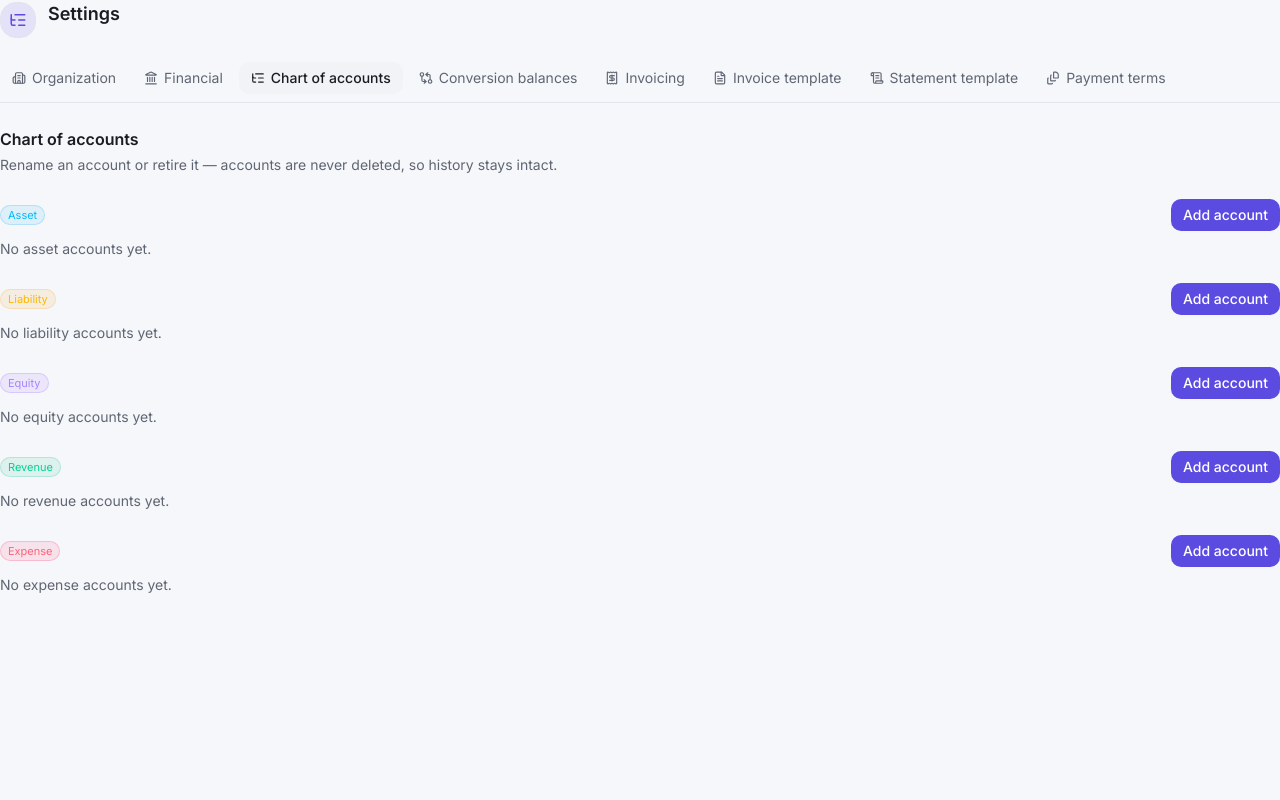
Test: ChartSettingsPage › surfaces a duplicate account code from the reused NewAccountForm
Order matches ACCOUNT_TYPES: Asset, Liability, Equity, Revenue, Expense.
Click the 5th button "Add account" at (1226, 551), box [1171, 535, 1279, 567]
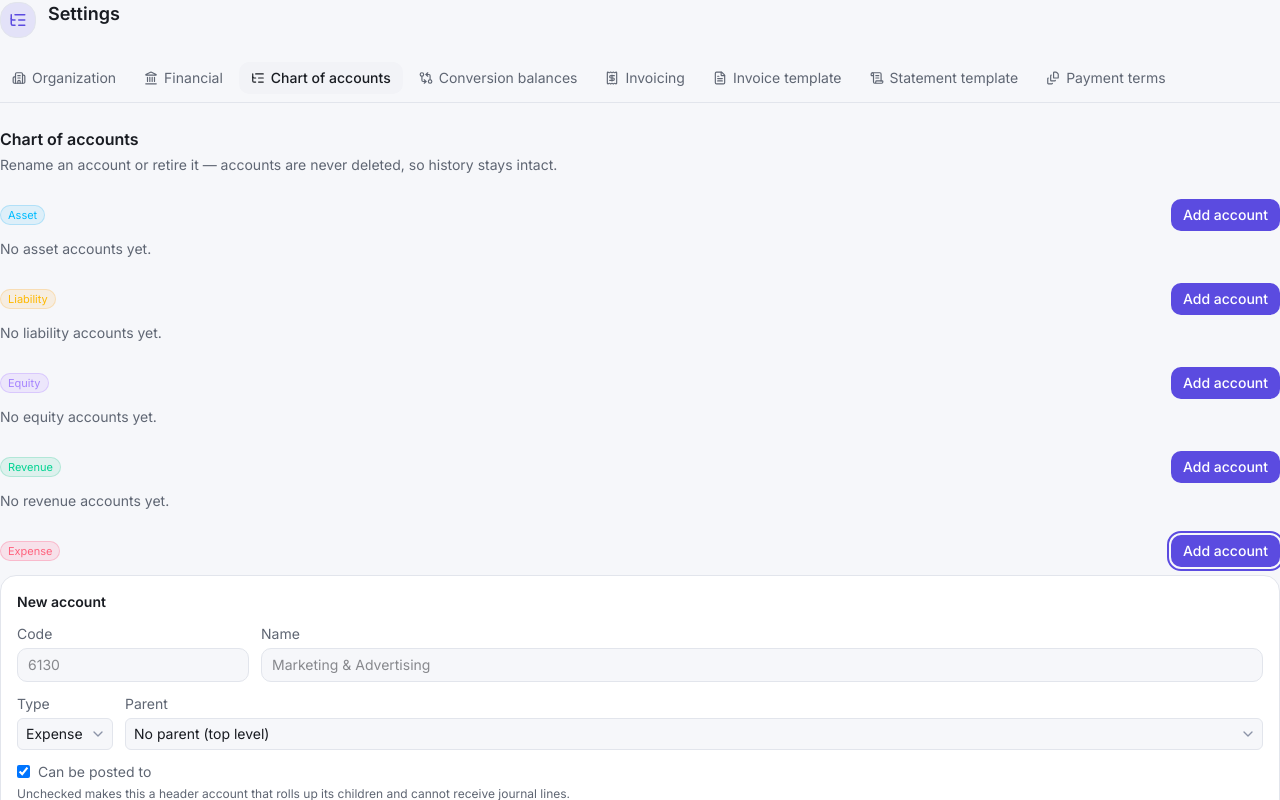
Type "6120" into the field labelled "Code" at (133, 665), box [17, 648, 249, 682]
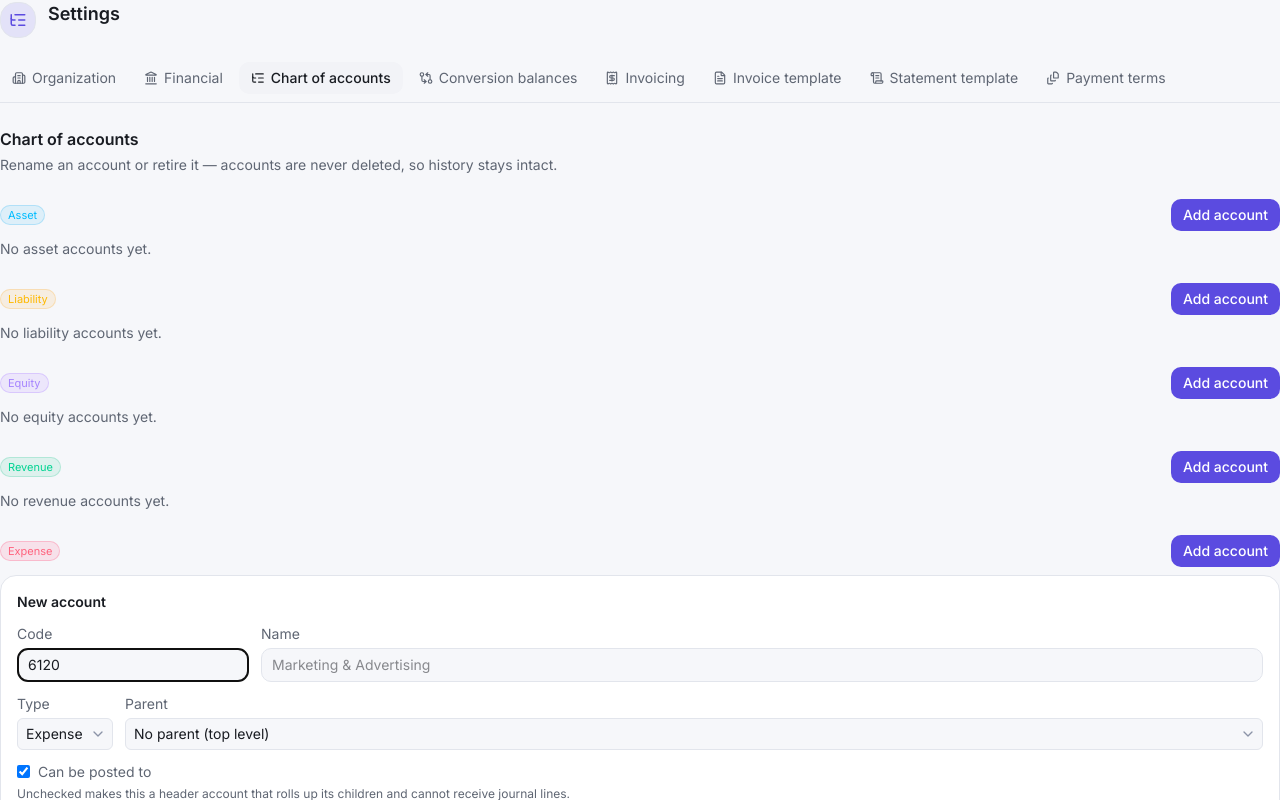
Type "Duplicate Expense" into the field labelled "Name" at (762, 665), box [261, 648, 1263, 682]
(page scrolled)
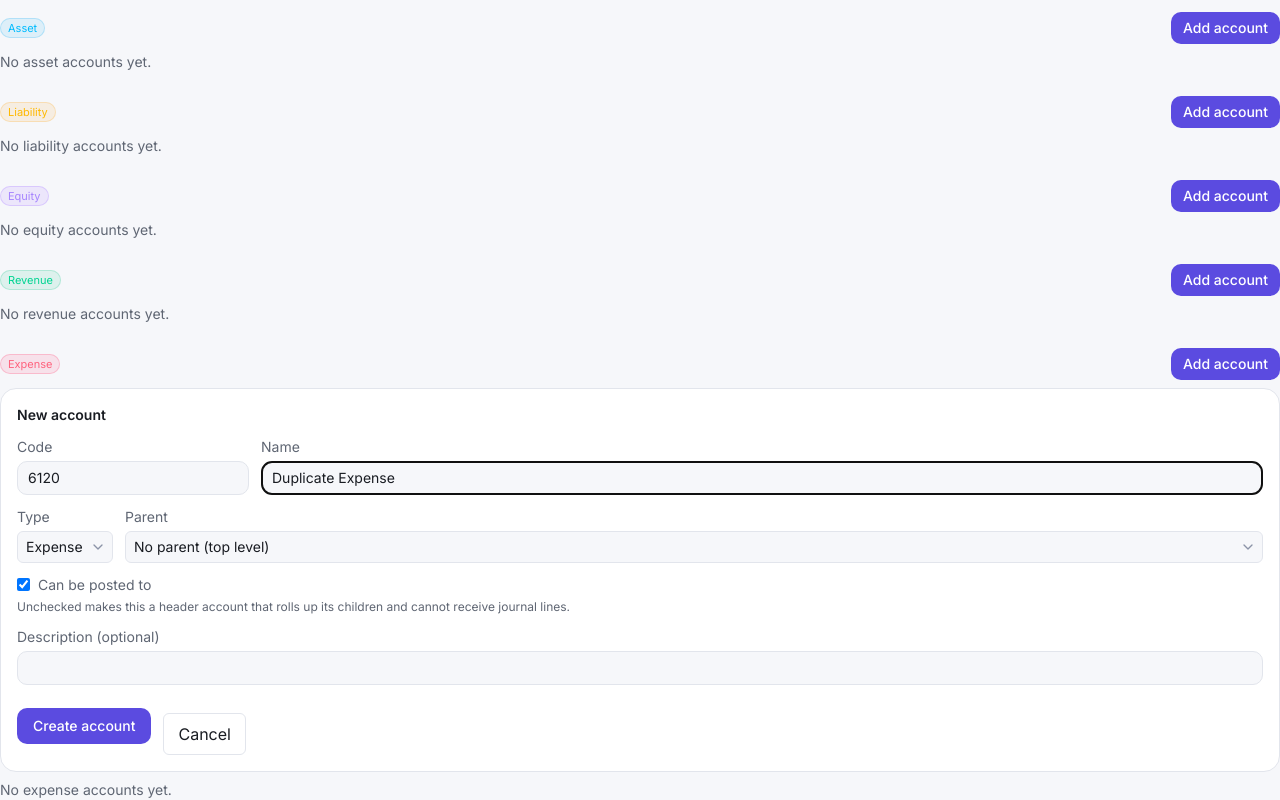
Click the button "Create account" at (84, 726), box [17, 708, 152, 744]
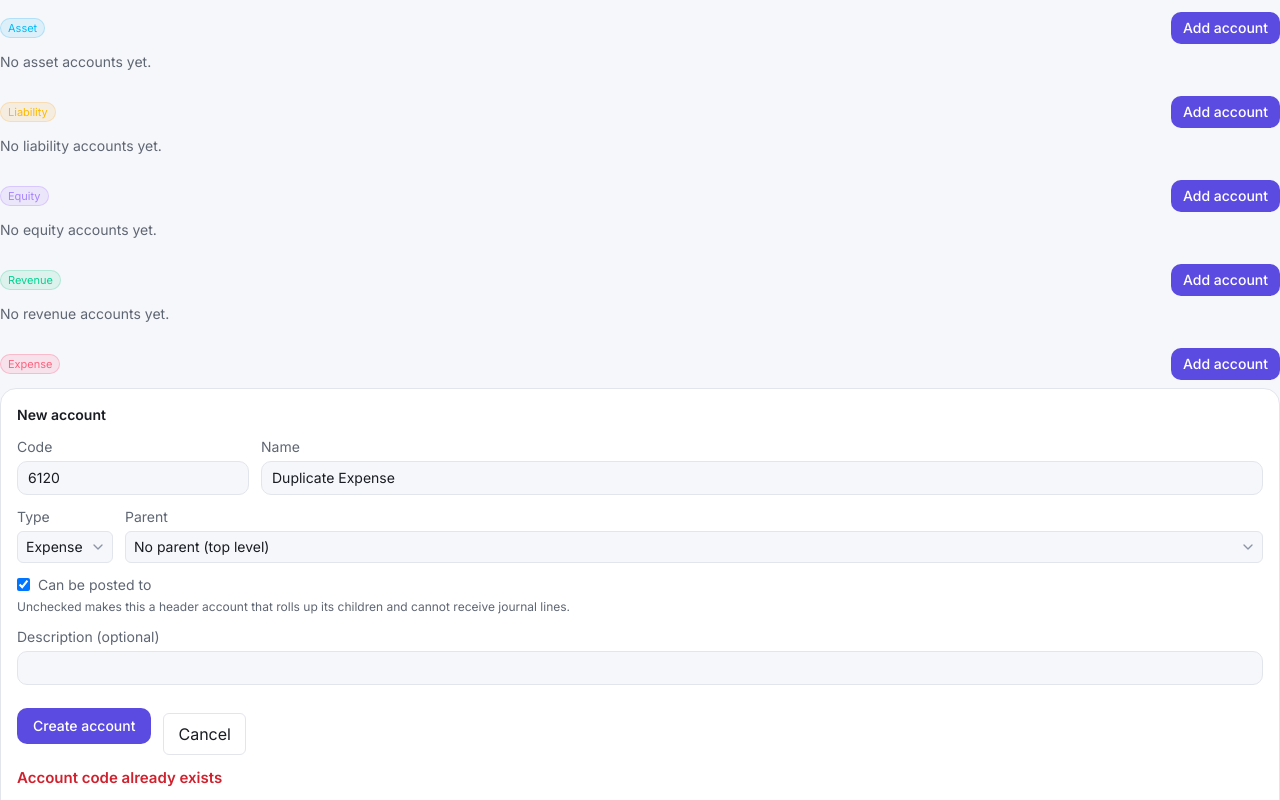
expect the text "Account code already exists" is shown: met, box [17, 768, 222, 787]
